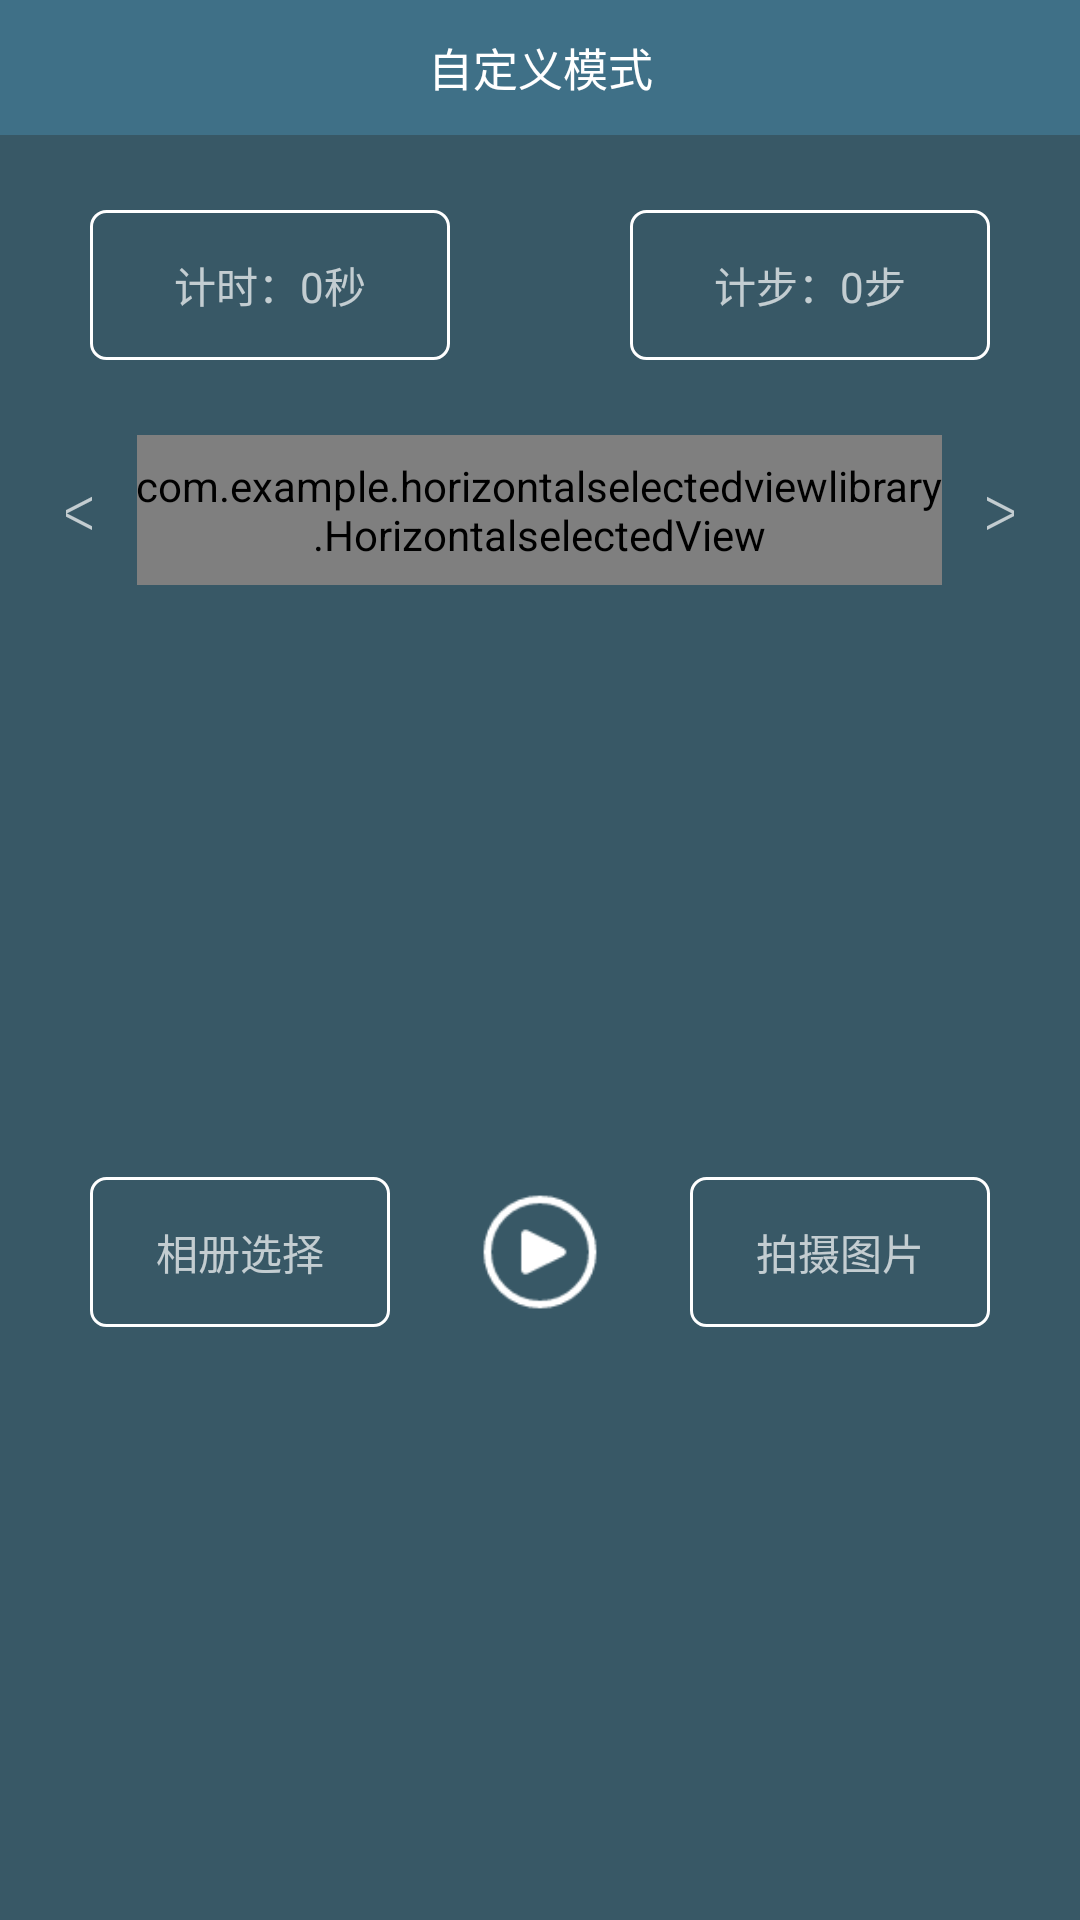

Icon click points for this 1080×1920 phone screenshot, format point (x, y):
begin: point (540, 1252)
